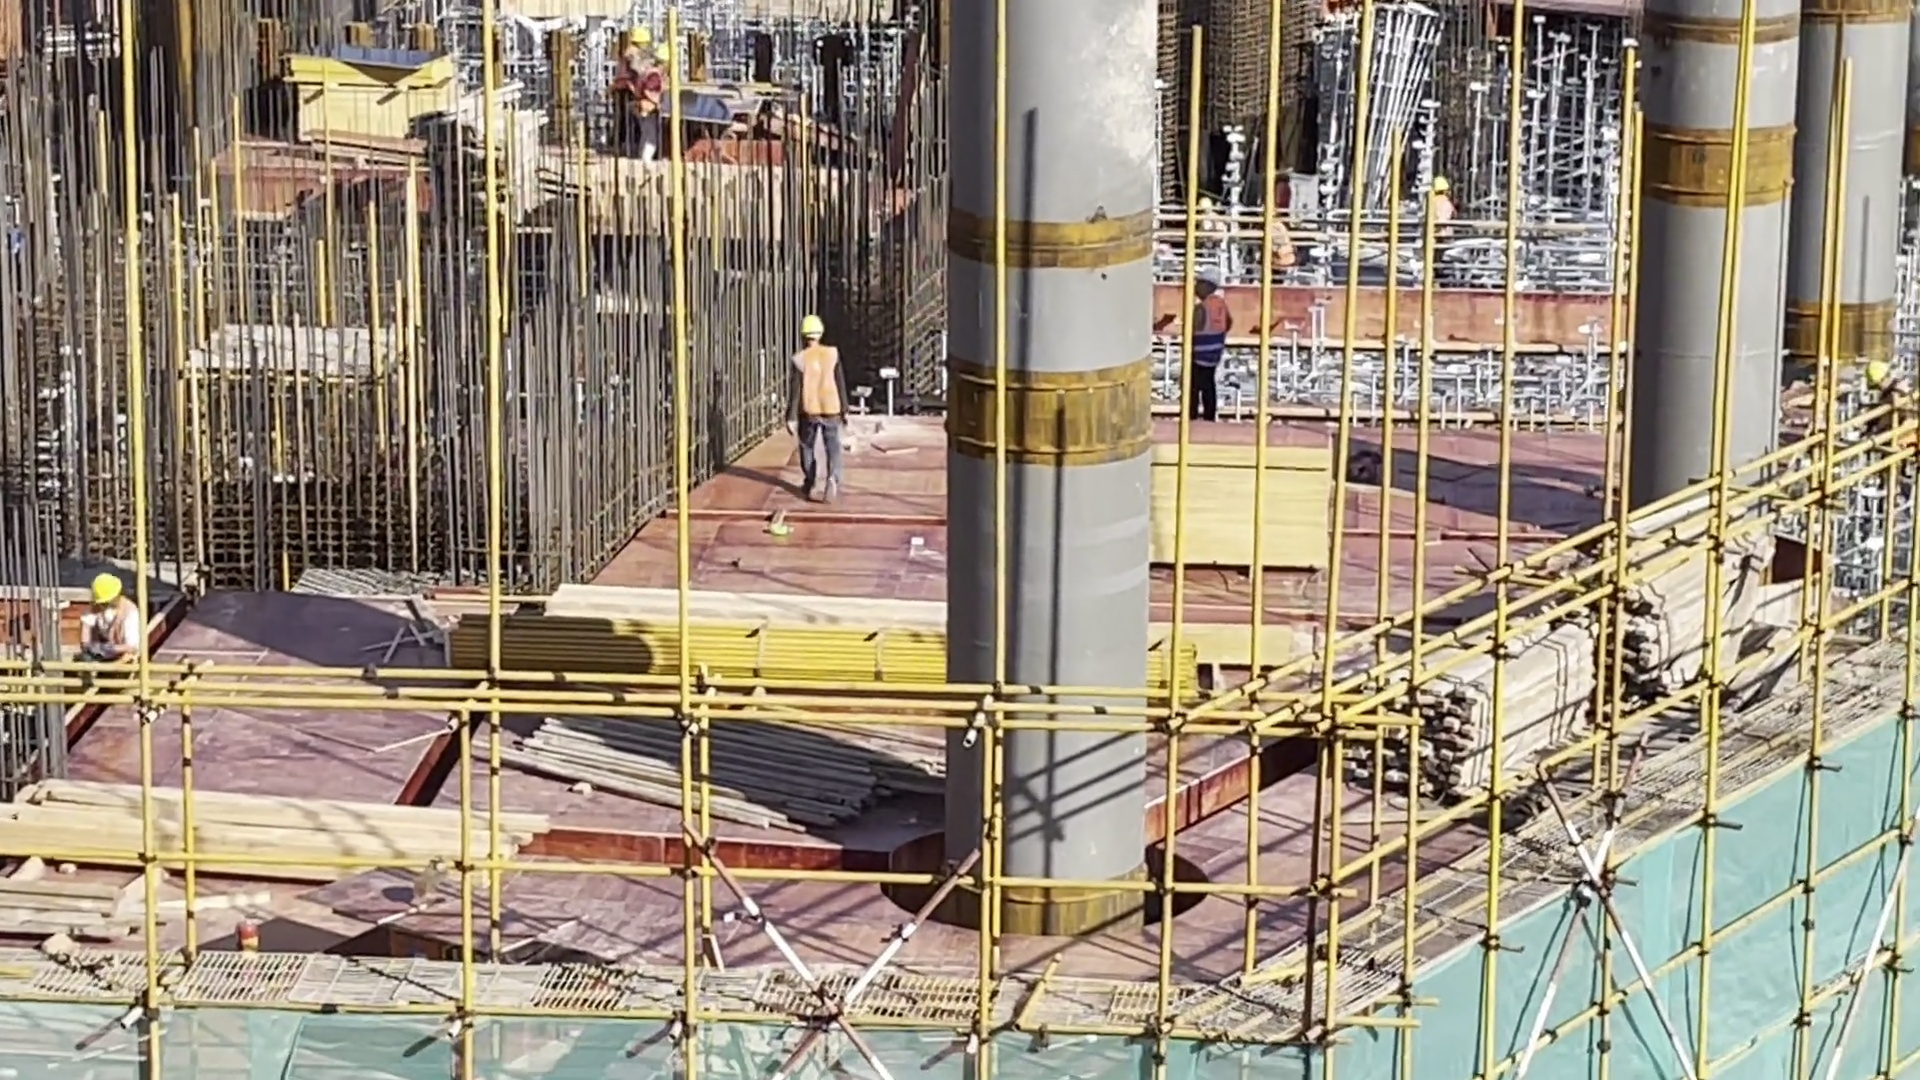helmet: (87, 575, 120, 614), (790, 315, 839, 333), (1192, 267, 1222, 291), (1424, 168, 1451, 195)
person: (773, 309, 849, 510), (1160, 261, 1236, 420), (75, 580, 151, 670), (1249, 203, 1318, 287), (639, 38, 677, 163), (616, 29, 643, 152), (1185, 191, 1237, 252), (1412, 172, 1455, 244)
vest: (785, 339, 841, 432), (1185, 296, 1230, 361)
